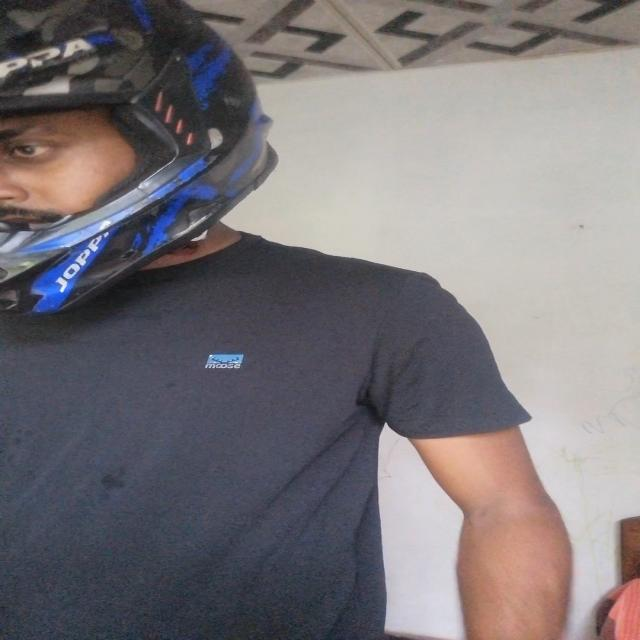Helmet_Wearer: (7, 0, 302, 333)
Person: (0, 0, 572, 632)
